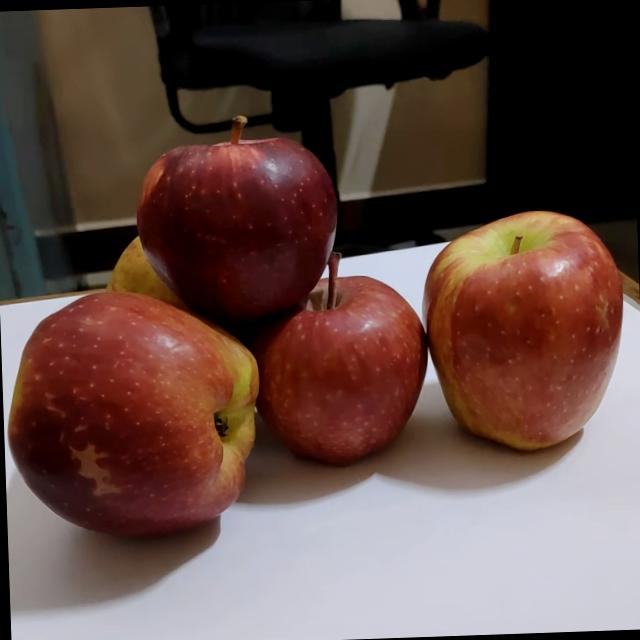apple: (0, 281, 268, 545), (417, 204, 629, 458), (127, 105, 344, 322), (242, 246, 436, 472), (98, 222, 210, 326)
